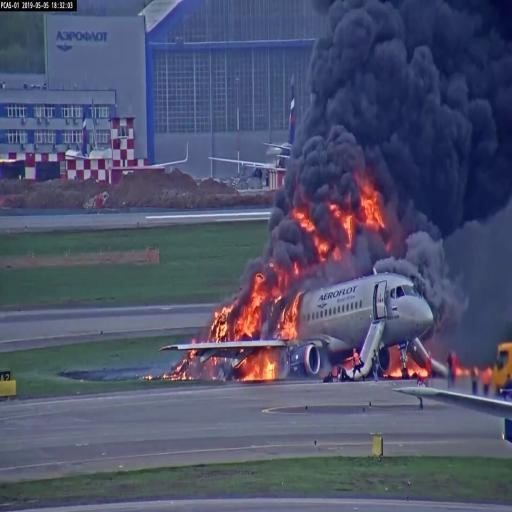fire: (241, 272, 297, 340), (359, 184, 386, 227), (240, 357, 279, 382)
smoke: (329, 6, 512, 181)
